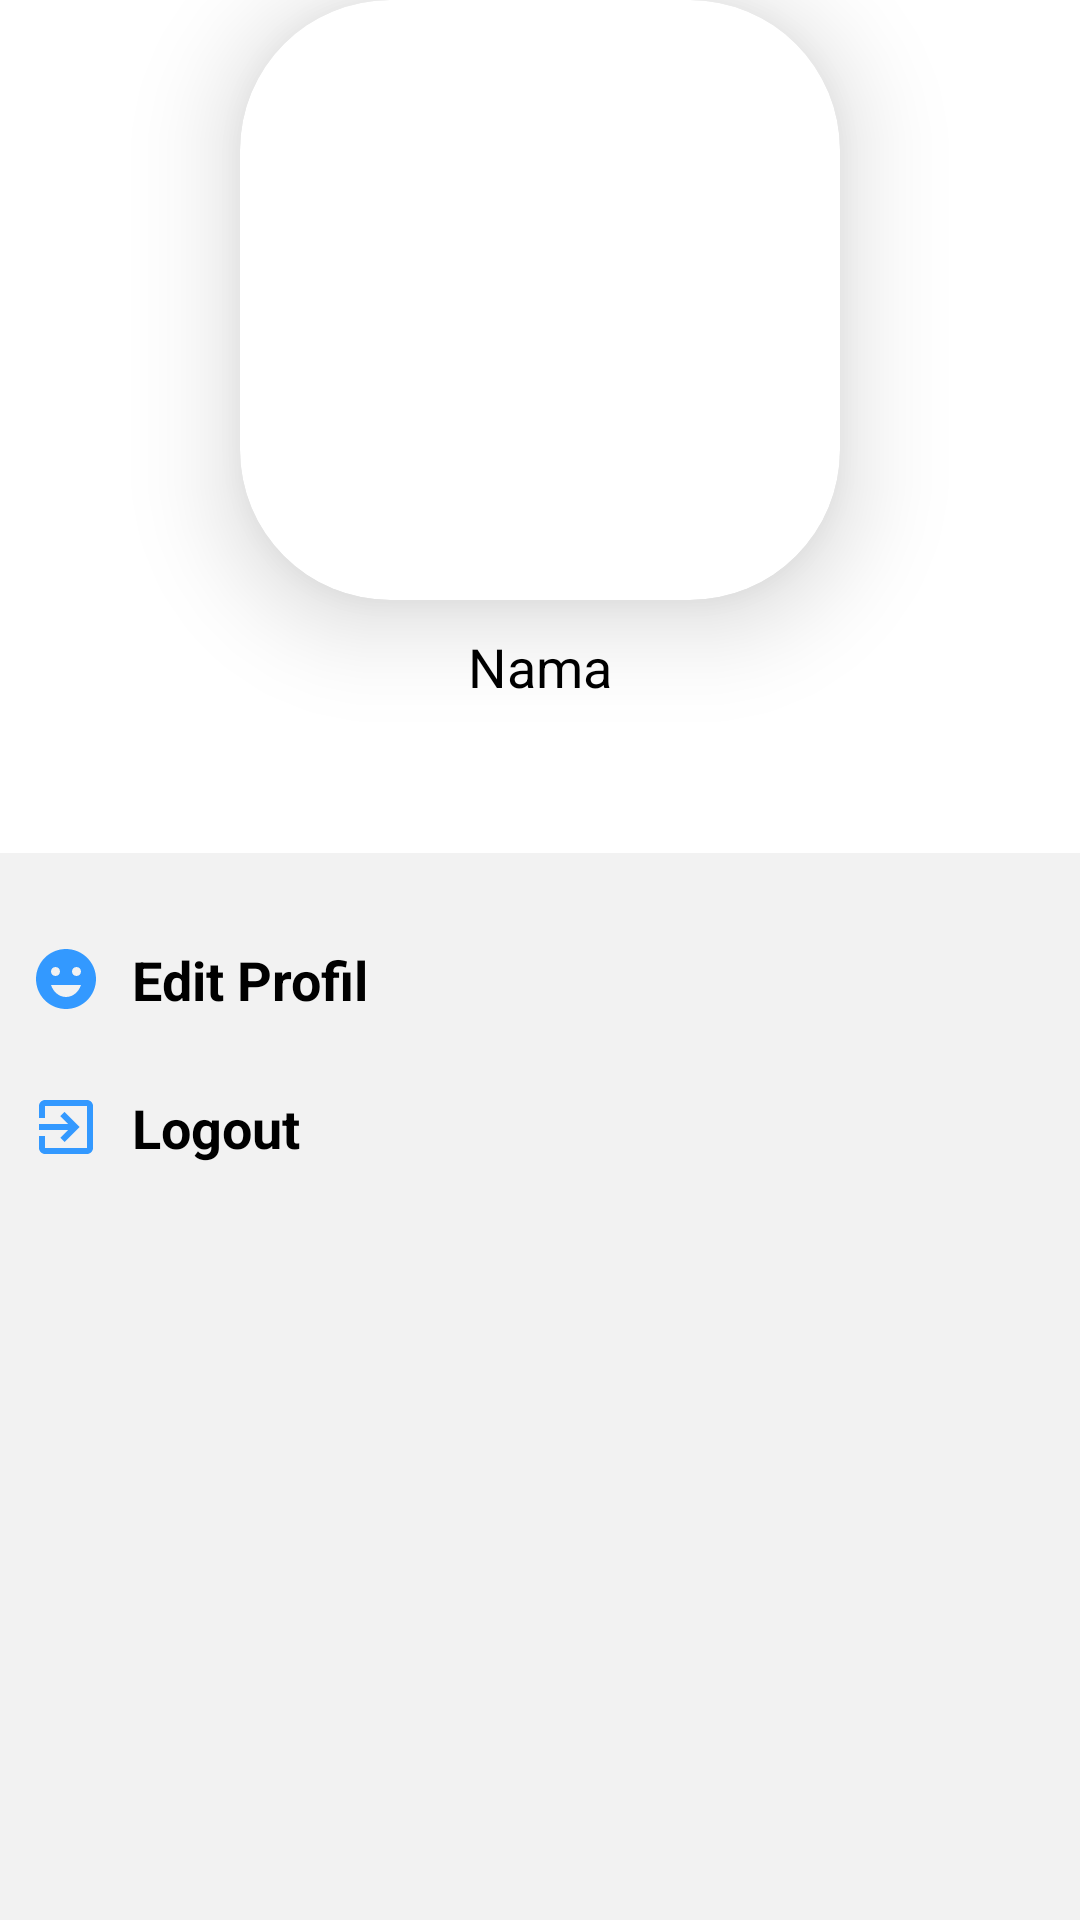

Where to tap for icons on this 1080 x 1920 app screen, as point (x, y):
emoji emotions: point (66, 979)
exit to app: point (66, 1127)
